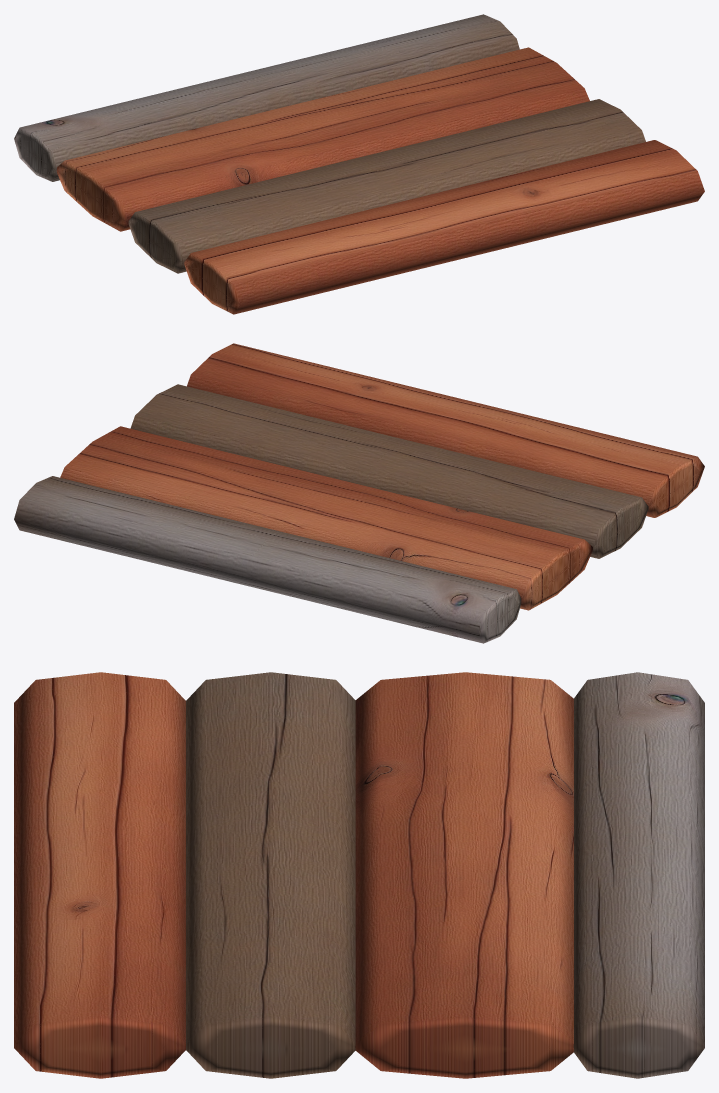
Rendered from wooden_boat.fbx.
The picture shows the model from 3 angles, top to bottom: view 1: azimuth 30°, elevation 25°; view 2: azimuth 150°, elevation 25°; view 3: azimuth 270°, elevation 25°; orthographic projection. The views are drawn at different scales.
Parts seen in each view (by area): view 1: pCube5, pCube3, pCube4, pCube2; view 2: pCube3, pCube2, pCube4, pCube5; view 3: pCube3, pCube5, pCube4, pCube2.
Boxes of the visible parts, left/top/right/bottom form: pCube5: left=184, top=140, right=704, bottom=314; pCube3: left=56, top=47, right=589, bottom=231; pCube4: left=128, top=99, right=645, bottom=273; pCube2: left=14, top=14, right=519, bottom=181; pCube3: left=60, top=426, right=592, bottom=610; pCube2: left=14, top=476, right=521, bottom=643; pCube4: left=130, top=384, right=648, bottom=558; pCube5: left=187, top=343, right=704, bottom=517; pCube3: left=355, top=672, right=573, bottom=1078; pCube5: left=14, top=672, right=185, bottom=1078; pCube4: left=186, top=672, right=355, bottom=1078; pCube2: left=573, top=672, right=704, bottom=1078.
Size of the model in its own units: 23.77 by 1.96 by 19.98.
1 material, 1 textured.
